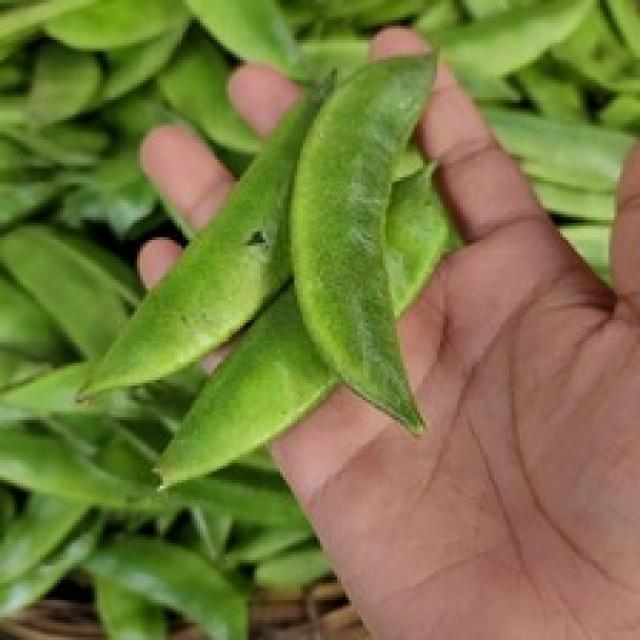Bean: (145, 48, 465, 490)
